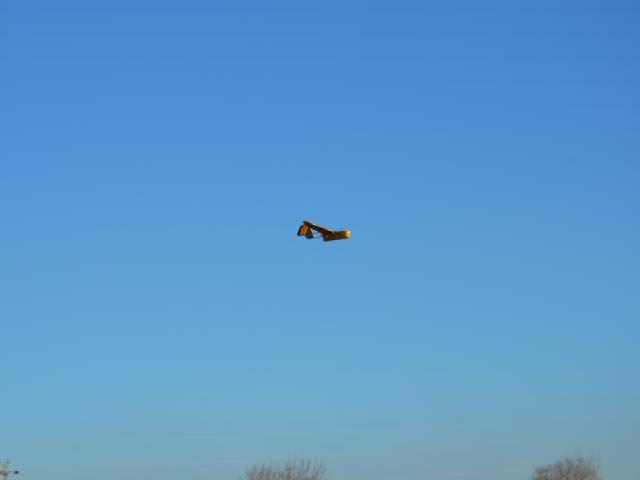iha: (290, 216, 363, 244)
